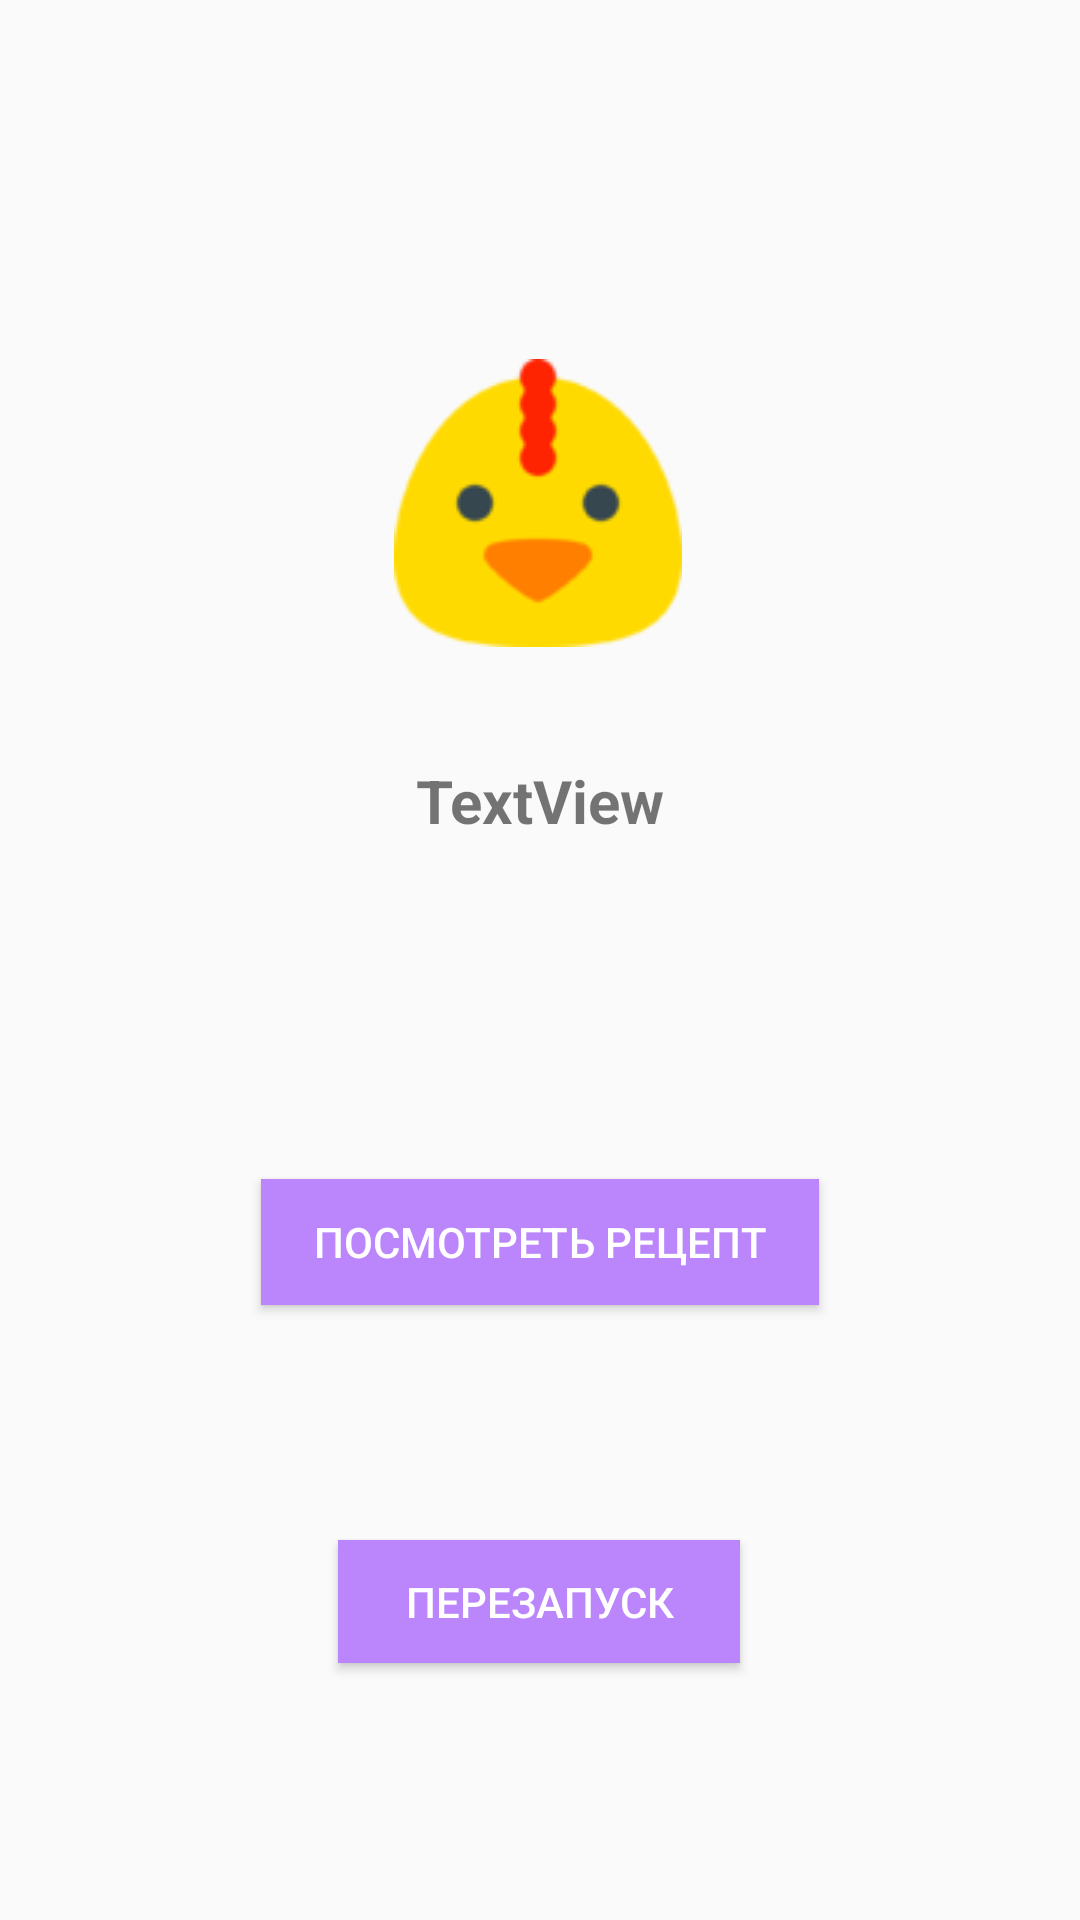

Screen size 1080w x 1920h. Icon name, then its box in pixels as rect(x1, y1, x2, y2):
chicken: rect(394, 359, 682, 647)
